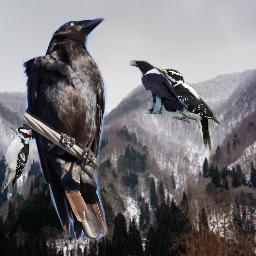Crow: (22, 15, 108, 240), (129, 60, 188, 114)
Woodpecker: (152, 64, 220, 153), (1, 123, 34, 195)
